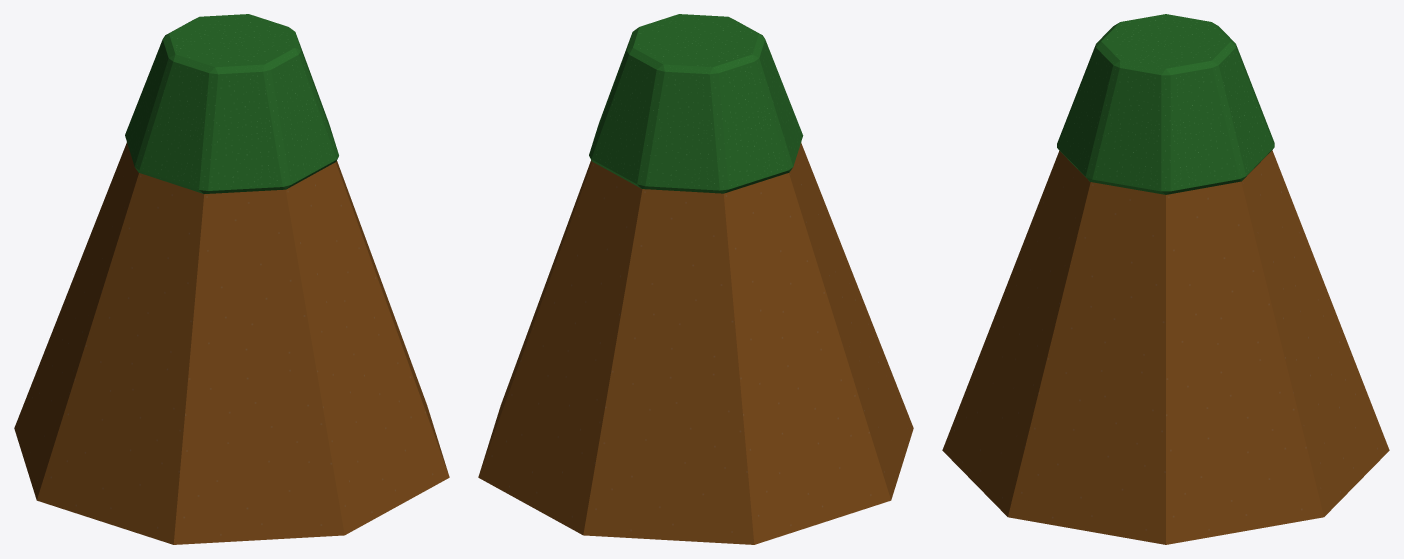
The model's file is mountain2.fbx.
3 views of the same model, side by side, from view 1: azimuth 30°, elevation 25°; view 2: azimuth 150°, elevation 25°; view 3: azimuth 270°, elevation 25° (orthographic).
Parts seen in each view (by area): view 1: Cylinder, Cylinder.001; view 2: Cylinder, Cylinder.001; view 3: Cylinder, Cylinder.001.
Part boxes in pixels (x1,y1,x2,y2): Cylinder: (14,142,449,544); Cylinder.001: (125,14,338,193); Cylinder: (478,142,913,544); Cylinder.001: (589,14,803,193); Cylinder: (942,150,1389,544); Cylinder.001: (1057,14,1274,194).
Bounding box in the file's own units: 398 × 402 × 398.
